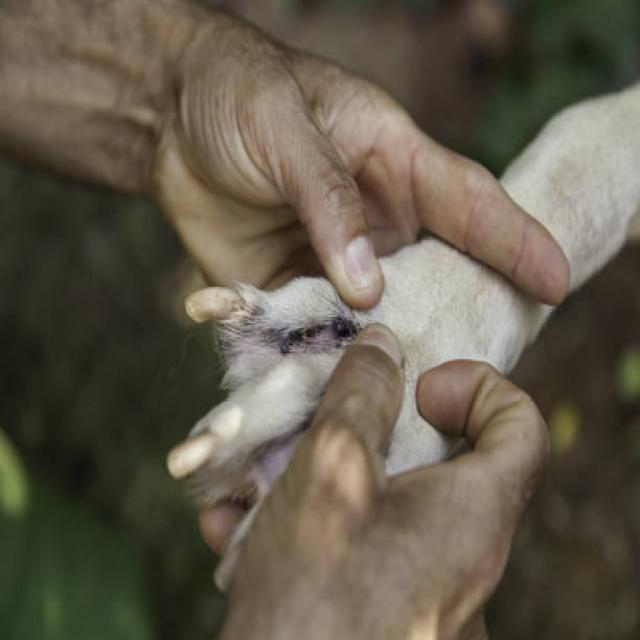injured-animals: (110, 117, 526, 605)
